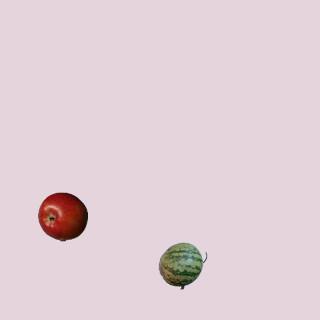Apple Braeburn: (37, 191, 87, 241)
Watermelon: (157, 240, 207, 290)
